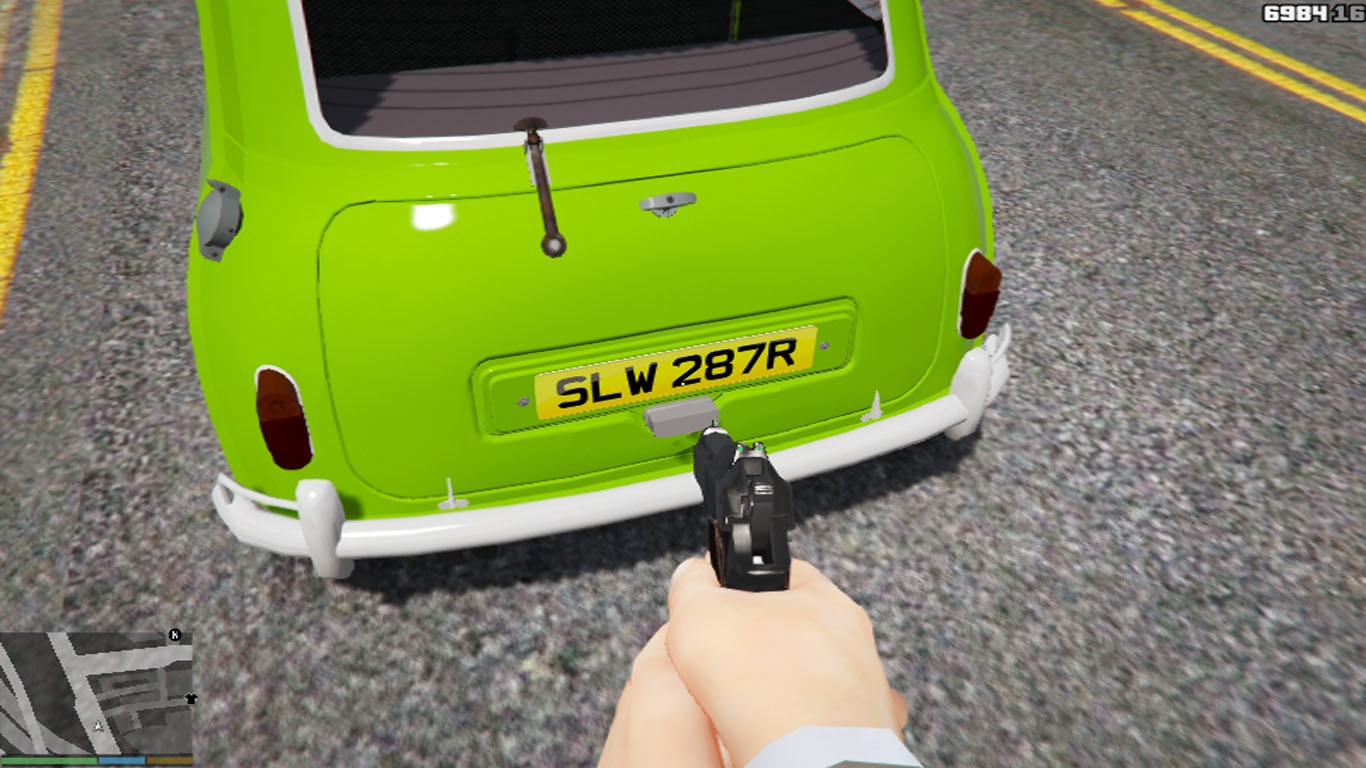license plate: (528, 319, 822, 427)
